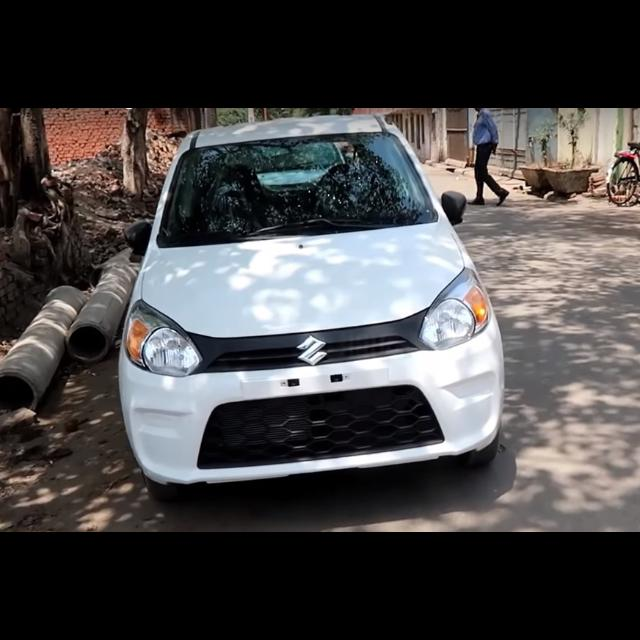number-plate: (237, 360, 400, 401)
vehicles: (110, 114, 511, 500)
